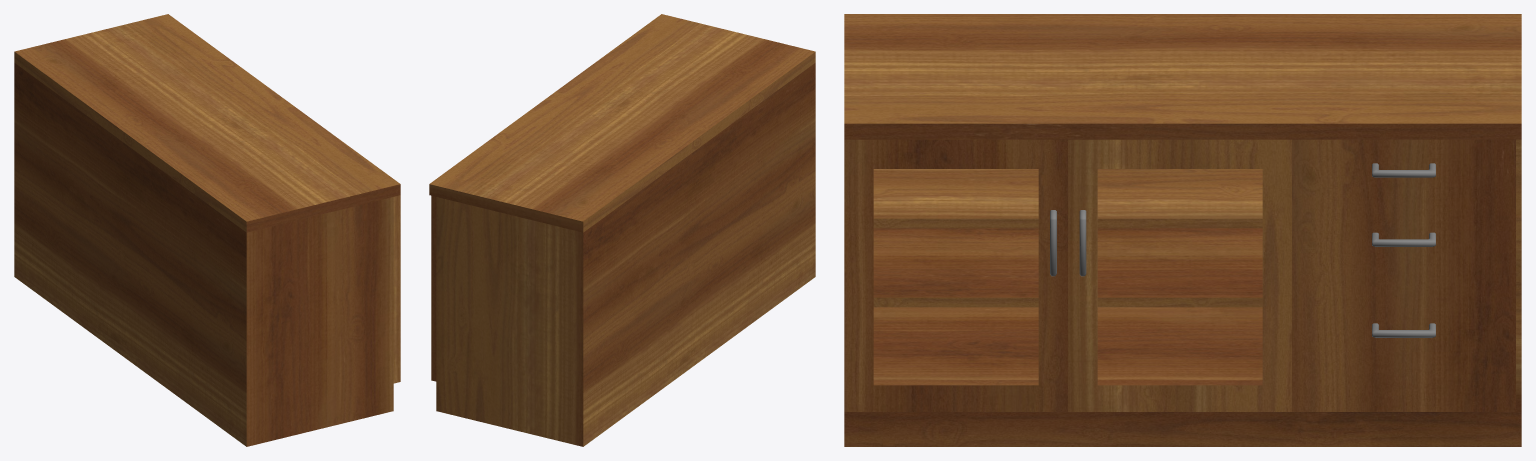
The model's file is Sideboard.dae.
The picture shows the model from 3 angles, left to right: view 1: azimuth 30°, elevation 25°; view 2: azimuth 150°, elevation 25°; view 3: azimuth 270°, elevation 25°; orthographic projection. The views are drawn at different scales.
Visible parts, largest first — view 1: Sideboard; view 2: Sideboard; view 3: Sideboard.
Boxes of the visible parts, box(x1,y1,x2,y2) form: Sideboard: box(14, 14, 400, 446); Sideboard: box(429, 14, 815, 446); Sideboard: box(844, 14, 1521, 446).
Bounding box in the file's own units: 0.4755 × 1.15 × 0.615.
Materials: 2 (1 with a texture image).
